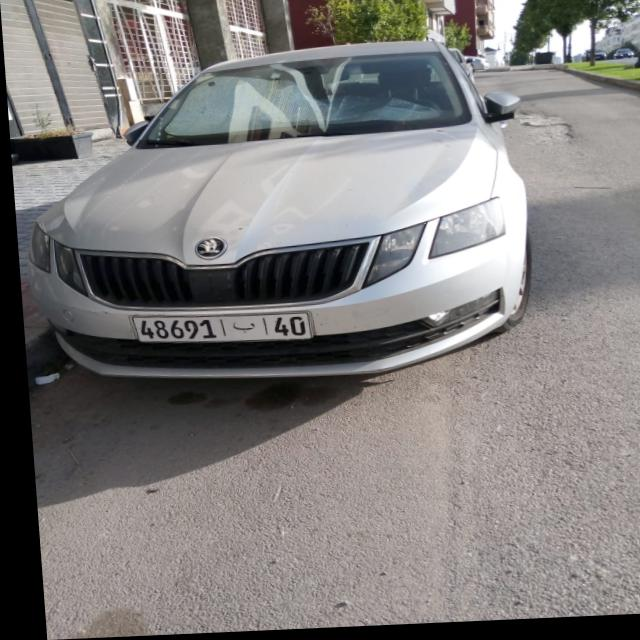License-Plate: (127, 315, 306, 345)
